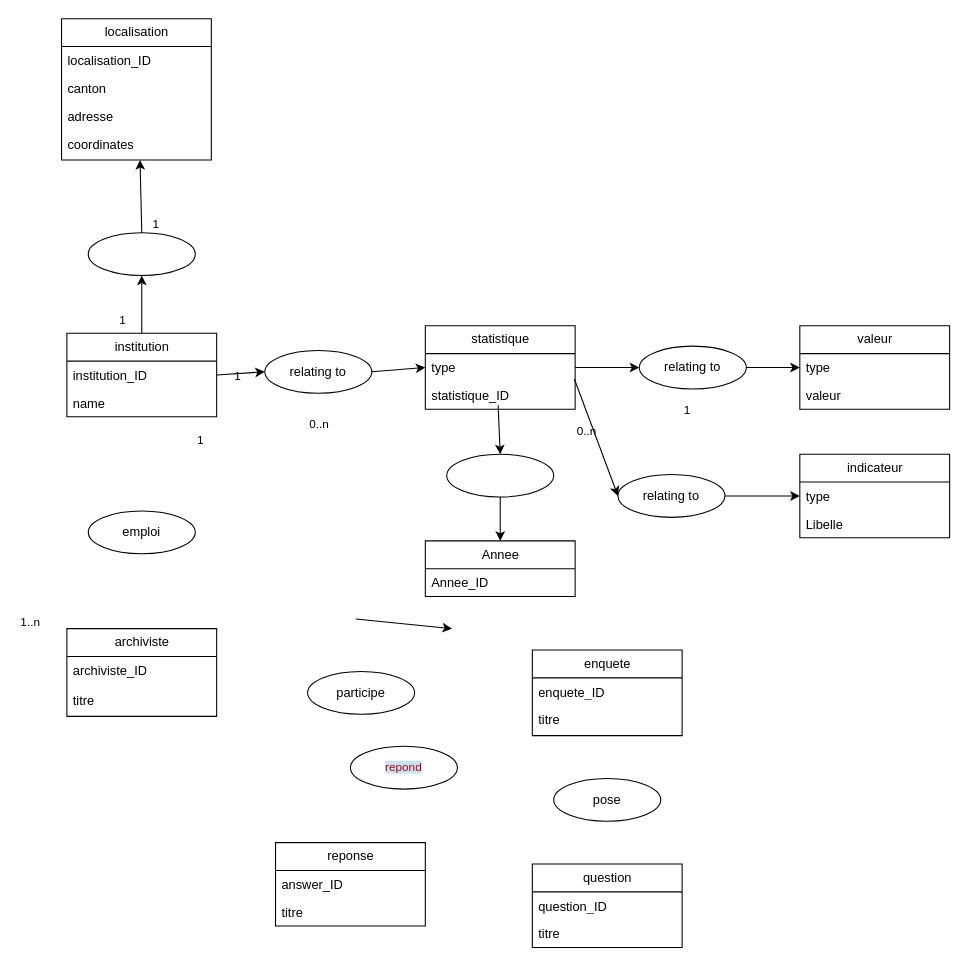
Some shapes in this 968 by 969 pixel diagram are drawn without their labels. The shapes that lost their labels are listed below. From the top down, each one's centre as x and y in pixels, then its label:
pixel 141 254: se localise
pixel 500 475: se passe
